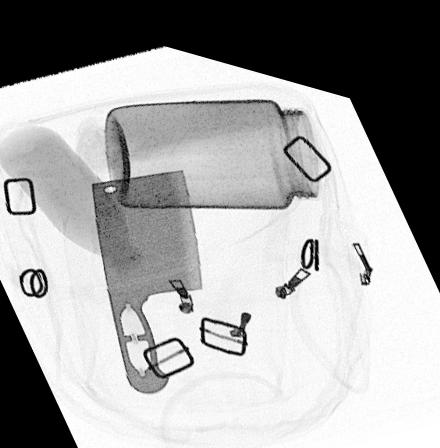Knife: (91, 158, 203, 389)
